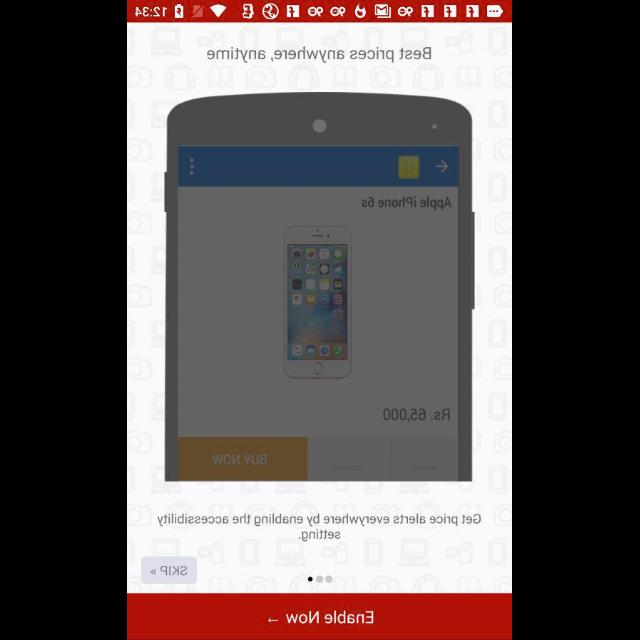image: (164, 92, 476, 482)
pageindicator: (308, 574, 334, 584)
text: (158, 512, 482, 542), (208, 46, 432, 64)
textbutton: (128, 592, 512, 640), (142, 556, 198, 584)
uppertaskbar: (128, 1, 512, 23)
